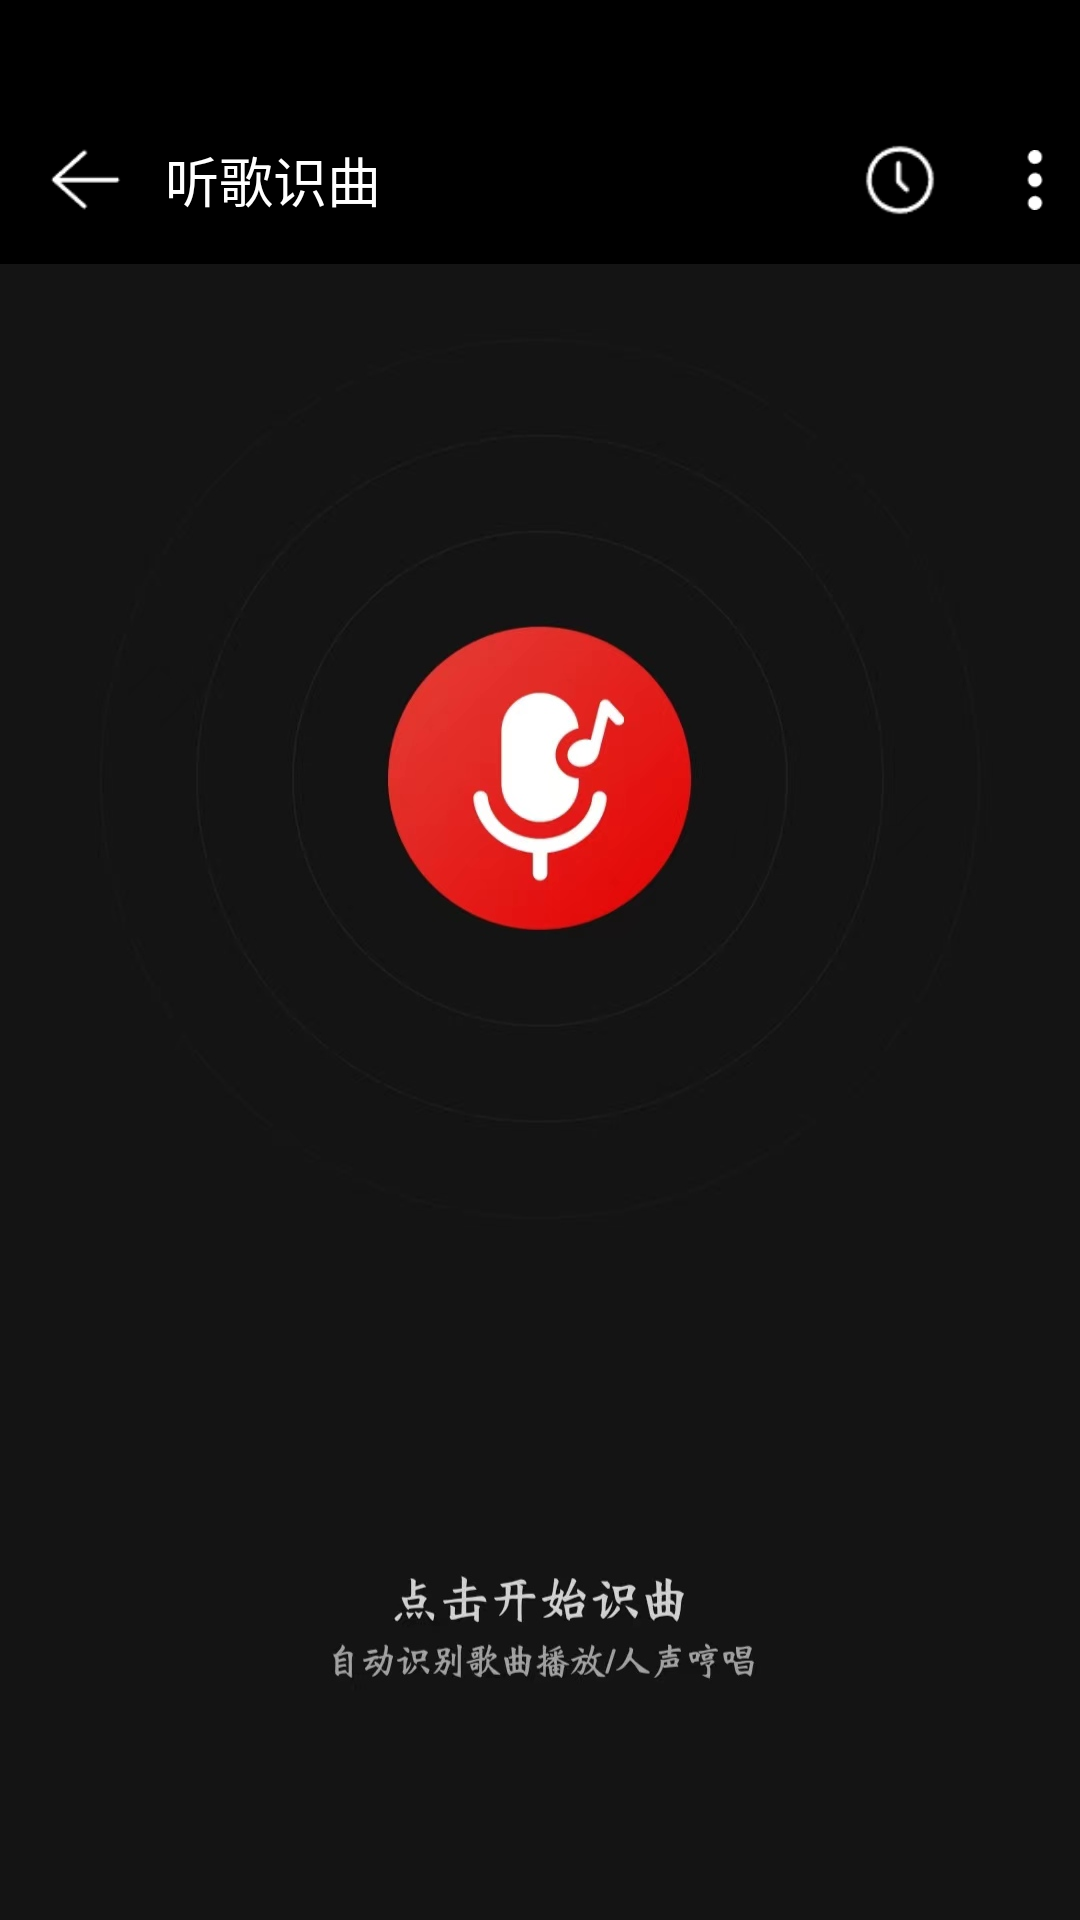

Point at icon controls on the screen. Image size 1080w x 1920h, points as (x=x, y=y).
back: (x=85, y=179)
history: (x=900, y=180)
menu: (x=1035, y=180)
